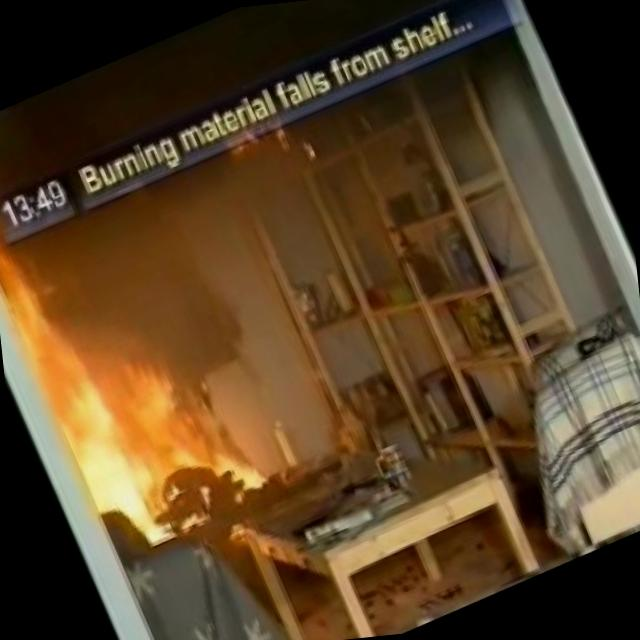fire: (0, 203, 222, 522)
